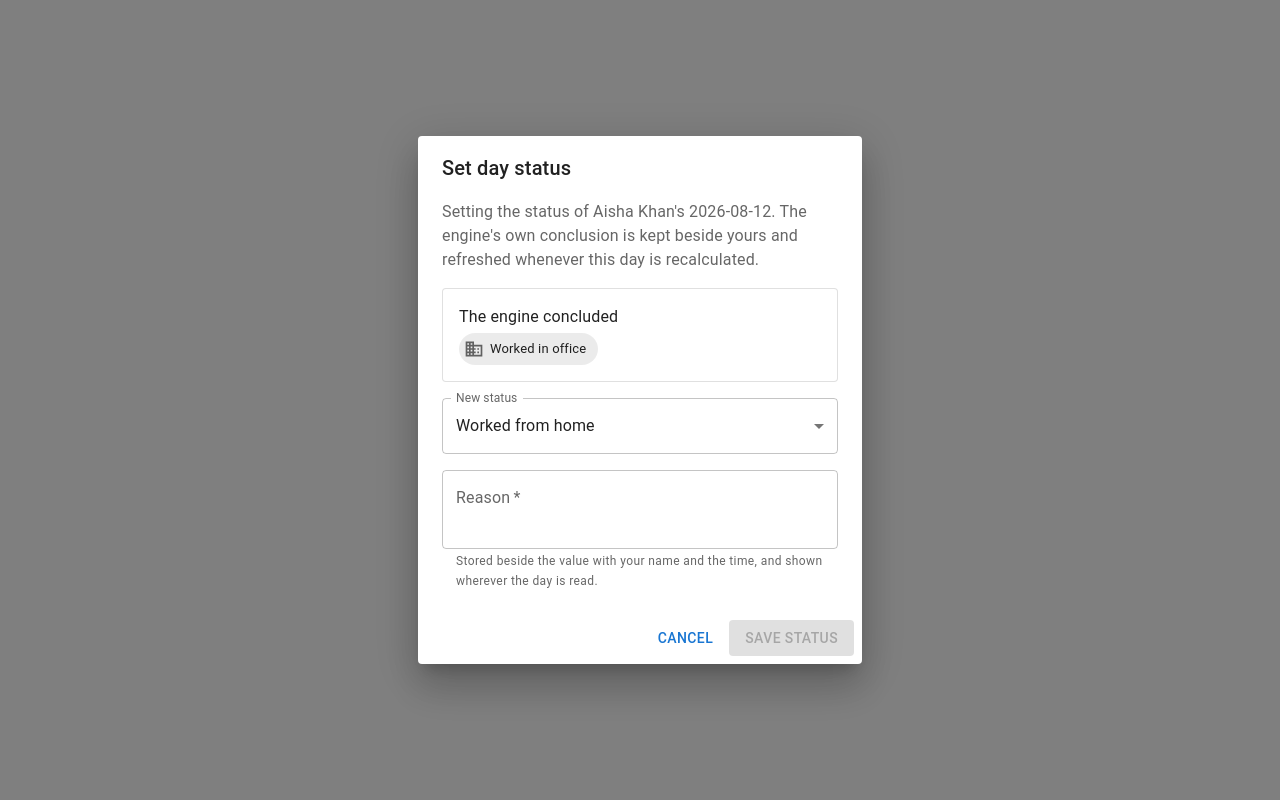
Test: DayStatusDialog › requires a reason before it will submit
The width and height of the screenshot is (1280, 800).
Check: the button "Save status" is disabled, box [729,620,854,656]
Type "Approved WFH" into the text box labelled "Reason *" at (640, 509), box [456,486,824,532]
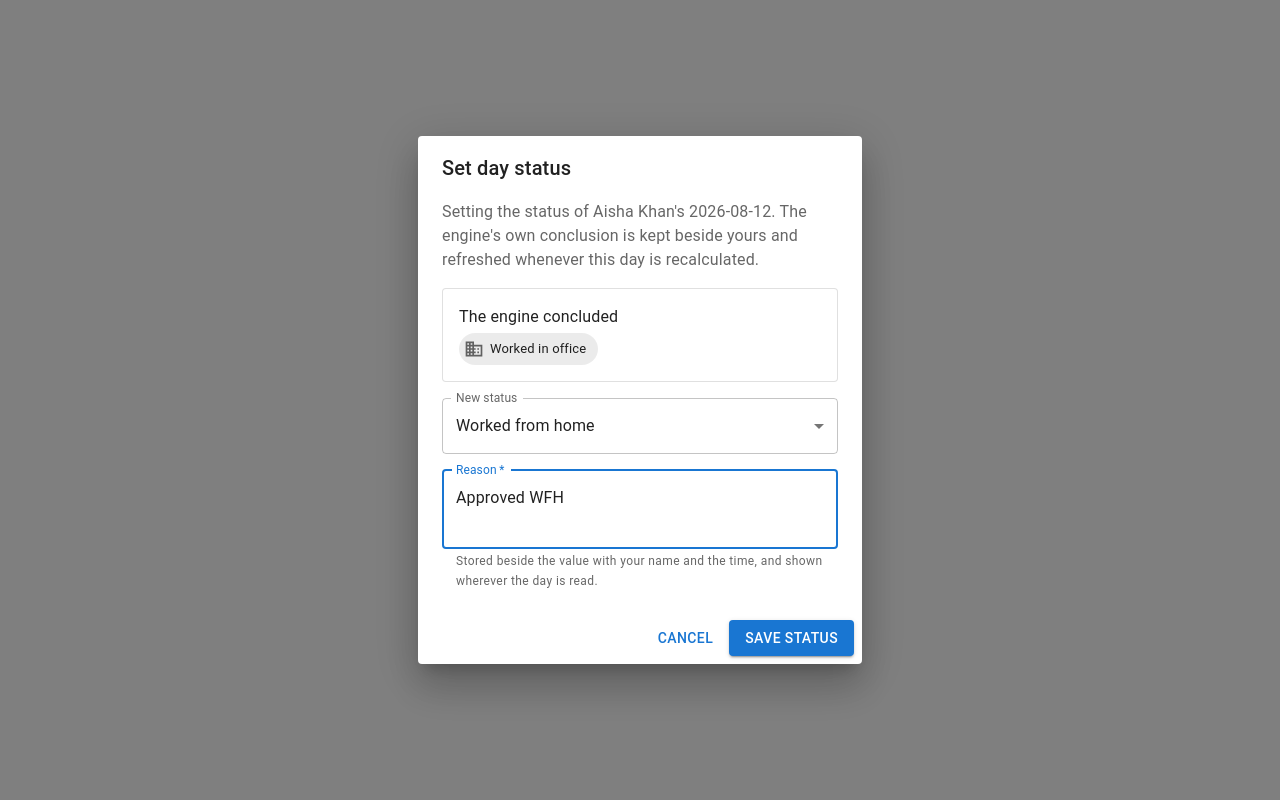
Check: the button "Save status" is enabled, box [729,620,854,656]
